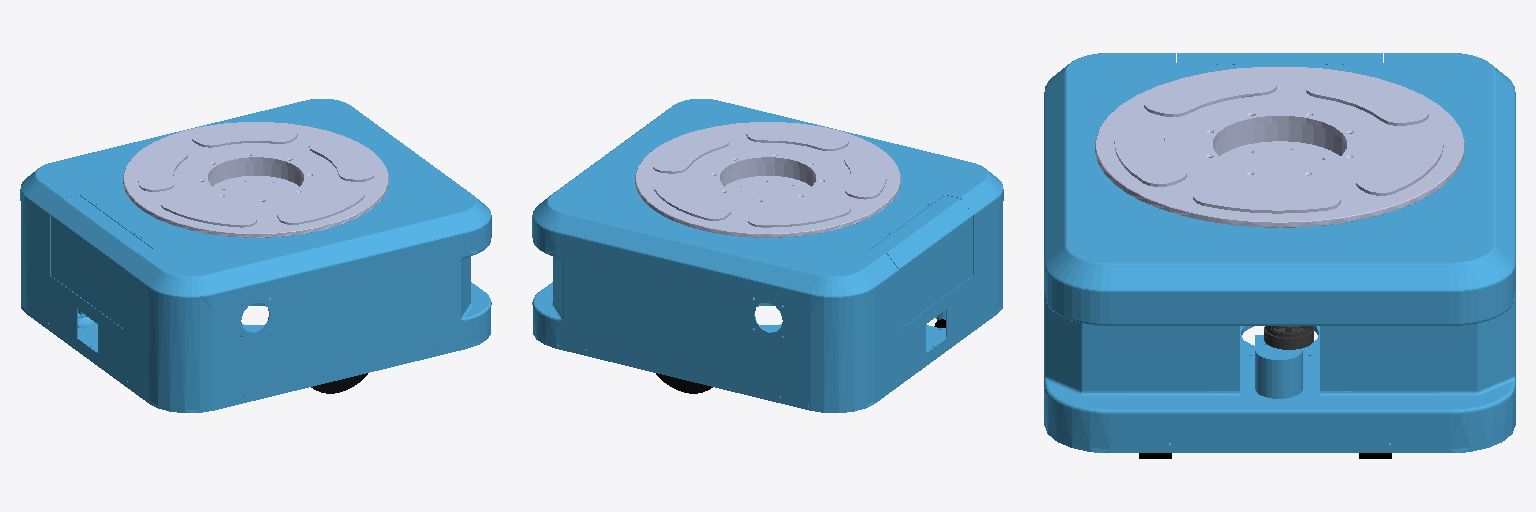
robot.urdf — agv0509test6:
<?xml version="1.0" encoding="utf-8"?>
<robot name="agv0509test6">

  <link name="base_footprint"/>

  <link name="base_link">
    <inertial>
      <origin xyz="-6.1479E-05 -0.014856 0.039725" rpy="0 0 0"/>
      <mass value="10.228"/>
      <inertia ixx="0.51173" ixy="4.6267E-05" ixz="0.001146"
               iyy="0.61846" iyz="3.4331E-05" izz="1.0521"/>
    </inertial>
    <visual>
      <origin xyz="0 0 0" rpy="0 0 0"/>
      <geometry>
        <mesh filename="package://agv0509test6/meshes/Base_Link.stl" />
      </geometry>
      <material name="base_grey"/>
    </visual>
    <collision>
      <origin xyz="0 0 0" rpy="0 0 0"/>
      <geometry>
        <mesh filename="package://agv0509test6/meshes/Base_Link.stl" />
      </geometry>
    </collision>
  </link>

  <joint name="base_link_jt" type="fixed">
    <origin xyz="0.0175 0.014007 0.0925" rpy="0 0 0"/>
    <parent link="base_footprint"/>
    <child  link="base_link"/>
  </joint>

  <link name="right_wheel">
    <inertial>
      <origin xyz="0 -0.019997 0" rpy="0 0 0"/>
      <mass value="0.8908"/>
      <inertia ixx="0.0029235" ixy="0" ixz="0"
               iyy="0.0056311" iyz="0" izz="0.0029235"/>
    </inertial>
    <visual>
      <origin xyz="0 0 0" rpy="0 0 0"/>
      <geometry>
        <mesh filename="package://agv0509test6/meshes/Right_Wheel.stl" />
      </geometry>
      <material name="wheel_black">
        <color rgba="0.1 0.1 0.1 1"/>
      </material>
    </visual>
    <collision>
      <origin xyz="0 0 0" rpy="0 0 0"/>
      <geometry>
        <mesh filename="package://agv0509test6/meshes/Right_Wheel.stl" />
      </geometry>
    </collision>
  </link>

  <joint name="right_wheel_jt" type="continuous">
    <origin xyz="-0.0055011 -0.30701 0.0075" rpy="0 0 0"/>
    <parent link="base_link"/>
    <child  link="right_wheel"/>
    <axis xyz="0 1 0"/>
    <limit effort="3" velocity="8"/>
    <dynamics damping="0.01" friction="0.2"/>
  </joint>

  <link name="left_wheel">
    <inertial>
      <origin xyz="0 0.019997 0" rpy="0 0 0"/>
      <mass value="0.8908"/>
      <inertia ixx="0.0029235" ixy="0" ixz="0"
               iyy="0.0056311" iyz="0" izz="0.0029235"/>
    </inertial>
    <visual>
      <origin xyz="0 0 0" rpy="0 0 0"/>
      <geometry>
        <mesh filename="package://agv0509test6/meshes/Left_Wheel.stl" />
      </geometry>
      <material name="wheel_black"/>
    </visual>
    <collision>
      <origin xyz="0 0 0" rpy="0 0 0"/>
      <geometry>
        <mesh filename="package://agv0509test6/meshes/Left_Wheel.stl" />
      </geometry>
    </collision>
  </link>

  <joint name="left_wheel_jt" type="continuous">
    <origin xyz="-0.0055001 0.27899 0.0075" rpy="0 0 0"/>
    <parent link="base_link"/>
    <child  link="left_wheel"/>
    <axis xyz="0 1 0"/>
    <limit effort="3" velocity="8"/>
    <dynamics damping="0.01" friction="0.2"/>
  </joint>

  <link name="front_left_caster">
    <inertial>
      <origin xyz="0 0 0" rpy="0 0 0"/>
      <mass value="0.05"/>
      <inertia ixx="1.5e-5" ixy="0" ixz="0"
               iyy="1.5e-5" iyz="0" izz="1.5e-5"/>
    </inertial>
    <visual>
      <origin xyz="0 0 0" rpy="1.57079632679 0 0"/>
      <geometry><cylinder radius="0.025" length="0.05"/></geometry>
      <material name="caster_black">
        <color rgba="0.02 0.02 0.02 1"/>
      </material>
    </visual>
    <collision>
      <origin xyz="0 0 0" rpy="0 0 0"/>
      <geometry><sphere radius="0.025"/></geometry>
    </collision>
  </link>

  <joint name="front_left_caster_jt" type="fixed">
    <parent link="base_link"/>
    <child link="front_left_caster"/>
    <origin xyz="0.3171 0.1310 -0.0675" rpy="0 0 0"/>
  </joint>

  <link name="front_right_caster">
    <inertial>
      <origin xyz="0 0 0" rpy="0 0 0"/>
      <mass value="0.05"/>
      <inertia ixx="1.5e-5" ixy="0" ixz="0"
               iyy="1.5e-5" iyz="0" izz="1.5e-5"/>
    </inertial>
    <visual>
      <origin xyz="0 0 0" rpy="1.57079632679 0 0"/>
      <geometry><cylinder radius="0.025" length="0.05"/></geometry>
      <material name="caster_black"/>
    </visual>
    <collision>
      <origin xyz="0 0 0" rpy="0 0 0"/>
      <geometry><sphere radius="0.025"/></geometry>
    </collision>
  </link>

  <joint name="front_right_caster_jt" type="fixed">
    <parent link="base_link"/>
    <child link="front_right_caster"/>
    <origin xyz="0.3171 -0.2030 -0.0675" rpy="0 0 0"/>
  </joint>

  <link name="rear_left_caster">
    <inertial>
      <origin xyz="0 0 0" rpy="0 0 0"/>
      <mass value="0.05"/>
      <inertia ixx="1.5e-5" ixy="0" ixz="0"
               iyy="1.5e-5" iyz="0" izz="1.5e-5"/>
    </inertial>
    <visual>
      <origin xyz="0 0 0" rpy="1.57079632679 0 0"/>
      <geometry><cylinder radius="0.025" length="0.05"/></geometry>
      <material name="caster_black"/>
    </visual>
    <collision>
      <origin xyz="0 0 0" rpy="0 0 0"/>
      <geometry><sphere radius="0.025"/></geometry>
    </collision>
  </link>

  <joint name="rear_left_caster_jt" type="fixed">
    <parent link="base_link"/>
    <child link="rear_left_caster"/>
    <origin xyz="-0.3529 0.1310 -0.0675" rpy="0 0 0"/>
  </joint>

  <link name="rear_right_caster">
    <inertial>
      <origin xyz="0 0 0" rpy="0 0 0"/>
      <mass value="0.05"/>
      <inertia ixx="1.5e-5" ixy="0" ixz="0"
               iyy="1.5e-5" iyz="0" izz="1.5e-5"/>
    </inertial>
    <visual>
      <origin xyz="0 0 0" rpy="1.57079632679 0 0"/>
      <geometry><cylinder radius="0.025" length="0.05"/></geometry>
      <material name="caster_black"/>
    </visual>
    <collision>
      <origin xyz="0 0 0" rpy="0 0 0"/>
      <geometry><sphere radius="0.025"/></geometry>
    </collision>
  </link>

  <joint name="rear_right_caster_jt" type="fixed">
    <parent link="base_link"/>
    <child link="rear_right_caster"/>
    <origin xyz="-0.3529 -0.2030 -0.0675" rpy="0 0 0"/>
  </joint>

  <link name="lidar">
    <inertial>
      <origin xyz="-0.00056511 -1.4968E-05 0.019299" rpy="0 0 0"/>
      <mass value="0.16538"/>
      <inertia ixx="7.8866E-05" ixy="0" ixz="0"
               iyy="7.519E-05"  iyz="0" izz="0.00010995"/>
    </inertial>
    <visual>
      <origin xyz="0 0 0" rpy="0 0 0"/>
      <geometry>
        <mesh filename="package://agv0509test6/meshes/Lidar.stl" />
      </geometry>
      <material name="lidar_grey">
        <color rgba="0.3 0.3 0.3 1"/>
      </material>
    </visual>
    <collision>
      <origin xyz="0 0 0" rpy="0 0 0"/>
      <geometry>
        <mesh filename="package://agv0509test6/meshes/Lidar.stl" />
      </geometry>
    </collision>
  </link>

  <joint name="lidar_jt" type="fixed">
    <origin xyz="0.33152 0 0.11235" rpy="0 0 0"/>
    <parent link="base_link"/>
    <child  link="lidar"/>
    <axis xyz="0 0 0"/>
  </joint>

  <link name="mam_xoay">
    <inertial>
      <origin xyz="-0.00031092 -0.00080851 -0.022422" rpy="0 0 0"/>
      <mass value="3.4989"/>
      <inertia ixx="0.063931" ixy="0" ixz="0"
               iyy="0.06393"  iyz="0" izz="0.12544"/>
    </inertial>
    <visual>
      <origin xyz="0 0 0" rpy="0 0 0"/>
      <geometry>
        <mesh filename="package://agv0509test6/meshes/Mam_xoay.stl" />
      </geometry>
      <material name="mam_blue">
        <color rgba="0.79216 0.81961 0.93333 1"/>
      </material>
    </visual>
    <collision>
      <origin xyz="0 0 0" rpy="0 0 0"/>
      <geometry>
        <mesh filename="package://agv0509test6/meshes/Mam_xoay.stl" />
      </geometry>
    </collision>
  </link>

  <joint name="mam_xoay_jt" type="fixed">
    <origin xyz="-0.017238 -0.013326 0.27615" rpy="0 0 0"/>
    <parent link="base_link"/>
    <child  link="mam_xoay"/>
    <axis xyz="0 0 1"/>
  </joint>

  <link name="imu_link">
    <inertial>
      <origin xyz="0 0 0" rpy="0 0 0"/>
      <mass value="0.01"/>
      <inertia ixx="1e-5" ixy="0.0" ixz="0.0"
               iyy="1e-5" iyz="0.0" izz="1e-5"/>
    </inertial>
    <visual>
      <origin xyz="0 0 0" rpy="0 0 0"/>
      <geometry><box size="0.02 0.02 0.02"/></geometry>
      <material name="imu_grey">
        <color rgba="0.5 0.5 0.5 1"/>
      </material>
    </visual>
  </link>

  <joint name="imu_joint" type="fixed">
    <parent link="base_link"/>
    <child  link="imu_link"/>
    <origin xyz="0 0 0.1091" rpy="0 0 0"/>
  </joint>

  <!-- =================  GAZEBO CLASSIC - MATERIALS & FRICTION  ================= -->
  <gazebo reference="base_footprint">
    <material>Gazebo/Grey</material>
  </gazebo>

  <gazebo reference="base_link">
    <material>Gazebo/Grey</material>
  </gazebo>

  <gazebo reference="mam_xoay">
    <material>Gazebo/SkyBlue</material>
  </gazebo>

  <gazebo reference="right_wheel">
    <mu1>1.0</mu1>
    <mu2>1.0</mu2>
    <kp>1000000.0</kp>
    <kd>100.0</kd>
    <minDepth>0.001</minDepth>
    <maxVel>1.0</maxVel>
    <fdir1>1 0 0</fdir1>
    <material>Gazebo/FlatBlack</material>
  </gazebo>

  <gazebo reference="left_wheel">
    <mu1>1.0</mu1>
    <mu2>1.0</mu2>
    <kp>1000000.0</kp>
    <kd>100.0</kd>
    <minDepth>0.001</minDepth>
    <maxVel>1.0</maxVel>
    <fdir1>1 0 0</fdir1>
    <material>Gazebo/FlatBlack</material>
  </gazebo>

  <gazebo reference="lidar">
    <material>Gazebo/DarkGrey</material>
  </gazebo>
  
  <gazebo reference="front_left_caster">
    <mu1>0.03</mu1>
    <mu2>0.03</mu2>
    <kp>1000000.0</kp>
    <kd>100.0</kd>
    <minDepth>0.001</minDepth>
    <maxVel>1.0</maxVel>
    <material>Gazebo/FlatBlack</material>
  </gazebo>

  <gazebo reference="front_right_caster">
    <mu1>0.03</mu1>
    <mu2>0.03</mu2>
    <kp>1000000.0</kp>
    <kd>100.0</kd>
    <minDepth>0.001</minDepth>
    <maxVel>1.0</maxVel>
    <material>Gazebo/FlatBlack</material>
  </gazebo>

  <gazebo reference="rear_left_caster">
    <mu1>0.03</mu1>
    <mu2>0.03</mu2>
    <kp>1000000.0</kp>
    <kd>100.0</kd>
    <minDepth>0.001</minDepth>
    <maxVel>1.0</maxVel>
    <material>Gazebo/FlatBlack</material>
  </gazebo>

  <gazebo reference="rear_right_caster">
    <mu1>0.03</mu1>
    <mu2>0.03</mu2>
    <kp>1000000.0</kp>
    <kd>100.0</kd>
    <minDepth>0.001</minDepth>
    <maxVel>1.0</maxVel>
    <material>Gazebo/FlatBlack</material>
  </gazebo>

  <gazebo reference="lidar">
    <material>Gazebo/DarkGrey</material>
  </gazebo>
  
<!-- ======================= -->
<!-- ROS2 CONTROL            -->
<!-- ======================= -->
  <ros2_control name="GazeboSystem" type="system">
    <hardware>
      <plugin>gazebo_ros2_control/GazeboSystem</plugin>
    </hardware>
    <joint name="left_wheel_jt">
      <command_interface name="velocity"/>
      <state_interface name="position"/>
      <state_interface name="velocity"/>
    </joint>
    <joint name="right_wheel_jt">
      <command_interface name="velocity"/>
      <state_interface name="position"/>
      <state_interface name="velocity"/>
    </joint>
  </ros2_control>
  
<!-- ======================= -->
<!-- Gazebo plugin           -->
<!-- ======================= -->
  <gazebo>
    <plugin
        filename="libgazebo_ros2_control.so"
        name="gazebo_ros2_control">
      <parameters>
        /home/pdhuy/agv_ws/install/agv0509test6/share/agv0509test6/config/controllers.yaml
      </parameters>
    </plugin>
  </gazebo>
  
<!-- ======================= -->
<!-- Gazebo LiDAR            -->
<!-- ======================= -->
  <gazebo reference="lidar">
    <sensor name="front_laser" type="ray">
      <always_on>true</always_on>
      <visualize>false</visualize>
      <update_rate>10</update_rate>
      <pose>0 0 0 0 0 0</pose>
      <ray>
        <scan>
          <horizontal>
            <!-- 360° -->
            <samples>720</samples>
            <resolution>1</resolution>
            <min_angle>-3.14159265</min_angle>
            <max_angle>3.14159265</max_angle>
          </horizontal>
        </scan>
        <range>
          <min>0.15</min>
          <max>12.0</max>
          <resolution>0.01</resolution>
        </range>
        <noise>
          <type>gaussian</type>
          <mean>0.0</mean>
          <stddev>0.01</stddev>
        </noise>
      </ray>
      <plugin
        name="gazebo_ros_laser"
        filename="libgazebo_ros_ray_sensor.so">
        <ros>
          <remapping>~/out:=scan</remapping>
        </ros>
        <output_type>sensor_msgs/LaserScan</output_type>
        <frame_name>lidar</frame_name>
      </plugin>
    </sensor>
  </gazebo>
  
<!-- ======================= -->
<!-- Gazebo IMU              -->
<!-- ======================= -->
  <gazebo reference="imu_link">
    <sensor name="imu_sensor" type="imu">
      <always_on>true</always_on>
      <update_rate>100</update_rate>
      <visualize>true</visualize>
      <initial_orientation_as_reference>true</initial_orientation_as_reference>
      <plugin
          name="imu_plugin"
          filename="libgazebo_ros_imu_sensor.so">
        <ros>
          <namespace>/</namespace>
          <remapping>~/out:=/imu/data</remapping>
        </ros>
        <frame_name>imu_link</frame_name>
      </plugin>
      <imu>
        <angular_velocity>
          <x>
            <noise type="gaussian">
              <mean>0.0</mean>
              <stddev>0.002</stddev>
            </noise>
          </x>
          <y>
            <noise type="gaussian">
              <mean>0.0</mean>
              <stddev>0.002</stddev>
            </noise>
          </y>
          <z>
            <noise type="gaussian">
              <mean>0.0</mean>
              <stddev>0.002</stddev>
            </noise>
          </z>
        </angular_velocity>
        <linear_acceleration>
          <x>
            <noise type="gaussian">
              <mean>0.0</mean>
              <stddev>0.05</stddev>
            </noise>
          </x>
          <y>
            <noise type="gaussian">
              <mean>0.0</mean>
              <stddev>0.05</stddev>
            </noise>
          </y>
          <z>
            <noise type="gaussian">
              <mean>0.0</mean>
              <stddev>0.05</stddev>
            </noise>
          </z>
        </linear_acceleration>
      </imu>
    </sensor>
  </gazebo>

</robot>

--- Render facts (derived) ---
3 views of the same robot in one strip: view 1: azimuth 30°, elevation 25°; view 2: azimuth 150°, elevation 25°; view 3: azimuth 270°, elevation 25° (orthographic).
Robot: agv0509test6 — 11 links, 10 joints (2 continuous, 8 fixed); root link base_footprint; default pose: every joint at zero.
Visible links, largest first — view 1: base_link, mam_xoay; view 2: base_link, mam_xoay; view 3: base_link, mam_xoay, lidar.
Boxes of the visible links, x1=… form: base_link: x1=20, y1=99, x2=491, y2=412; mam_xoay: x1=123, y1=122, x2=388, y2=237; base_link: x1=532, y1=99, x2=1003, y2=412; mam_xoay: x1=635, y1=122, x2=900, y2=237; base_link: x1=1044, y1=53, x2=1515, y2=452; mam_xoay: x1=1095, y1=67, x2=1464, y2=227; lidar: x1=1264, y1=326, x2=1313, y2=349.
Size in the robot's own frame: 0.82 by 0.714 by 0.3737 metres.
5 mesh visuals loaded from 5 distinct referenced files (5 binary STL).
